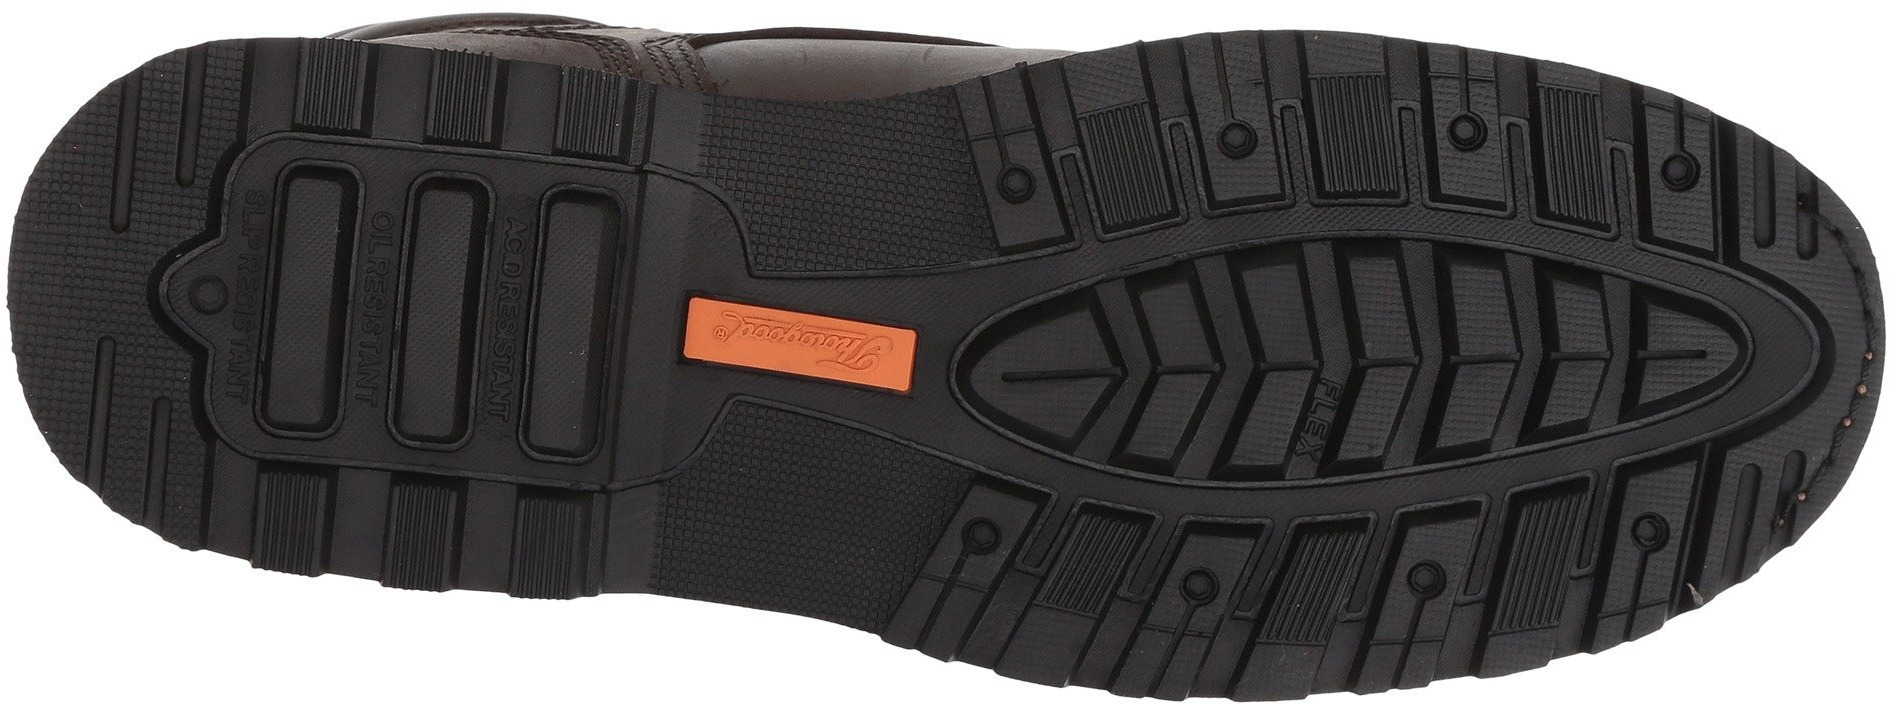chevron: (1132, 246, 1390, 472), (1405, 251, 1606, 441)
other: (722, 410, 901, 605), (783, 131, 925, 282)
quad: (277, 147, 594, 469)
text: (820, 315, 898, 392), (718, 300, 796, 360)
